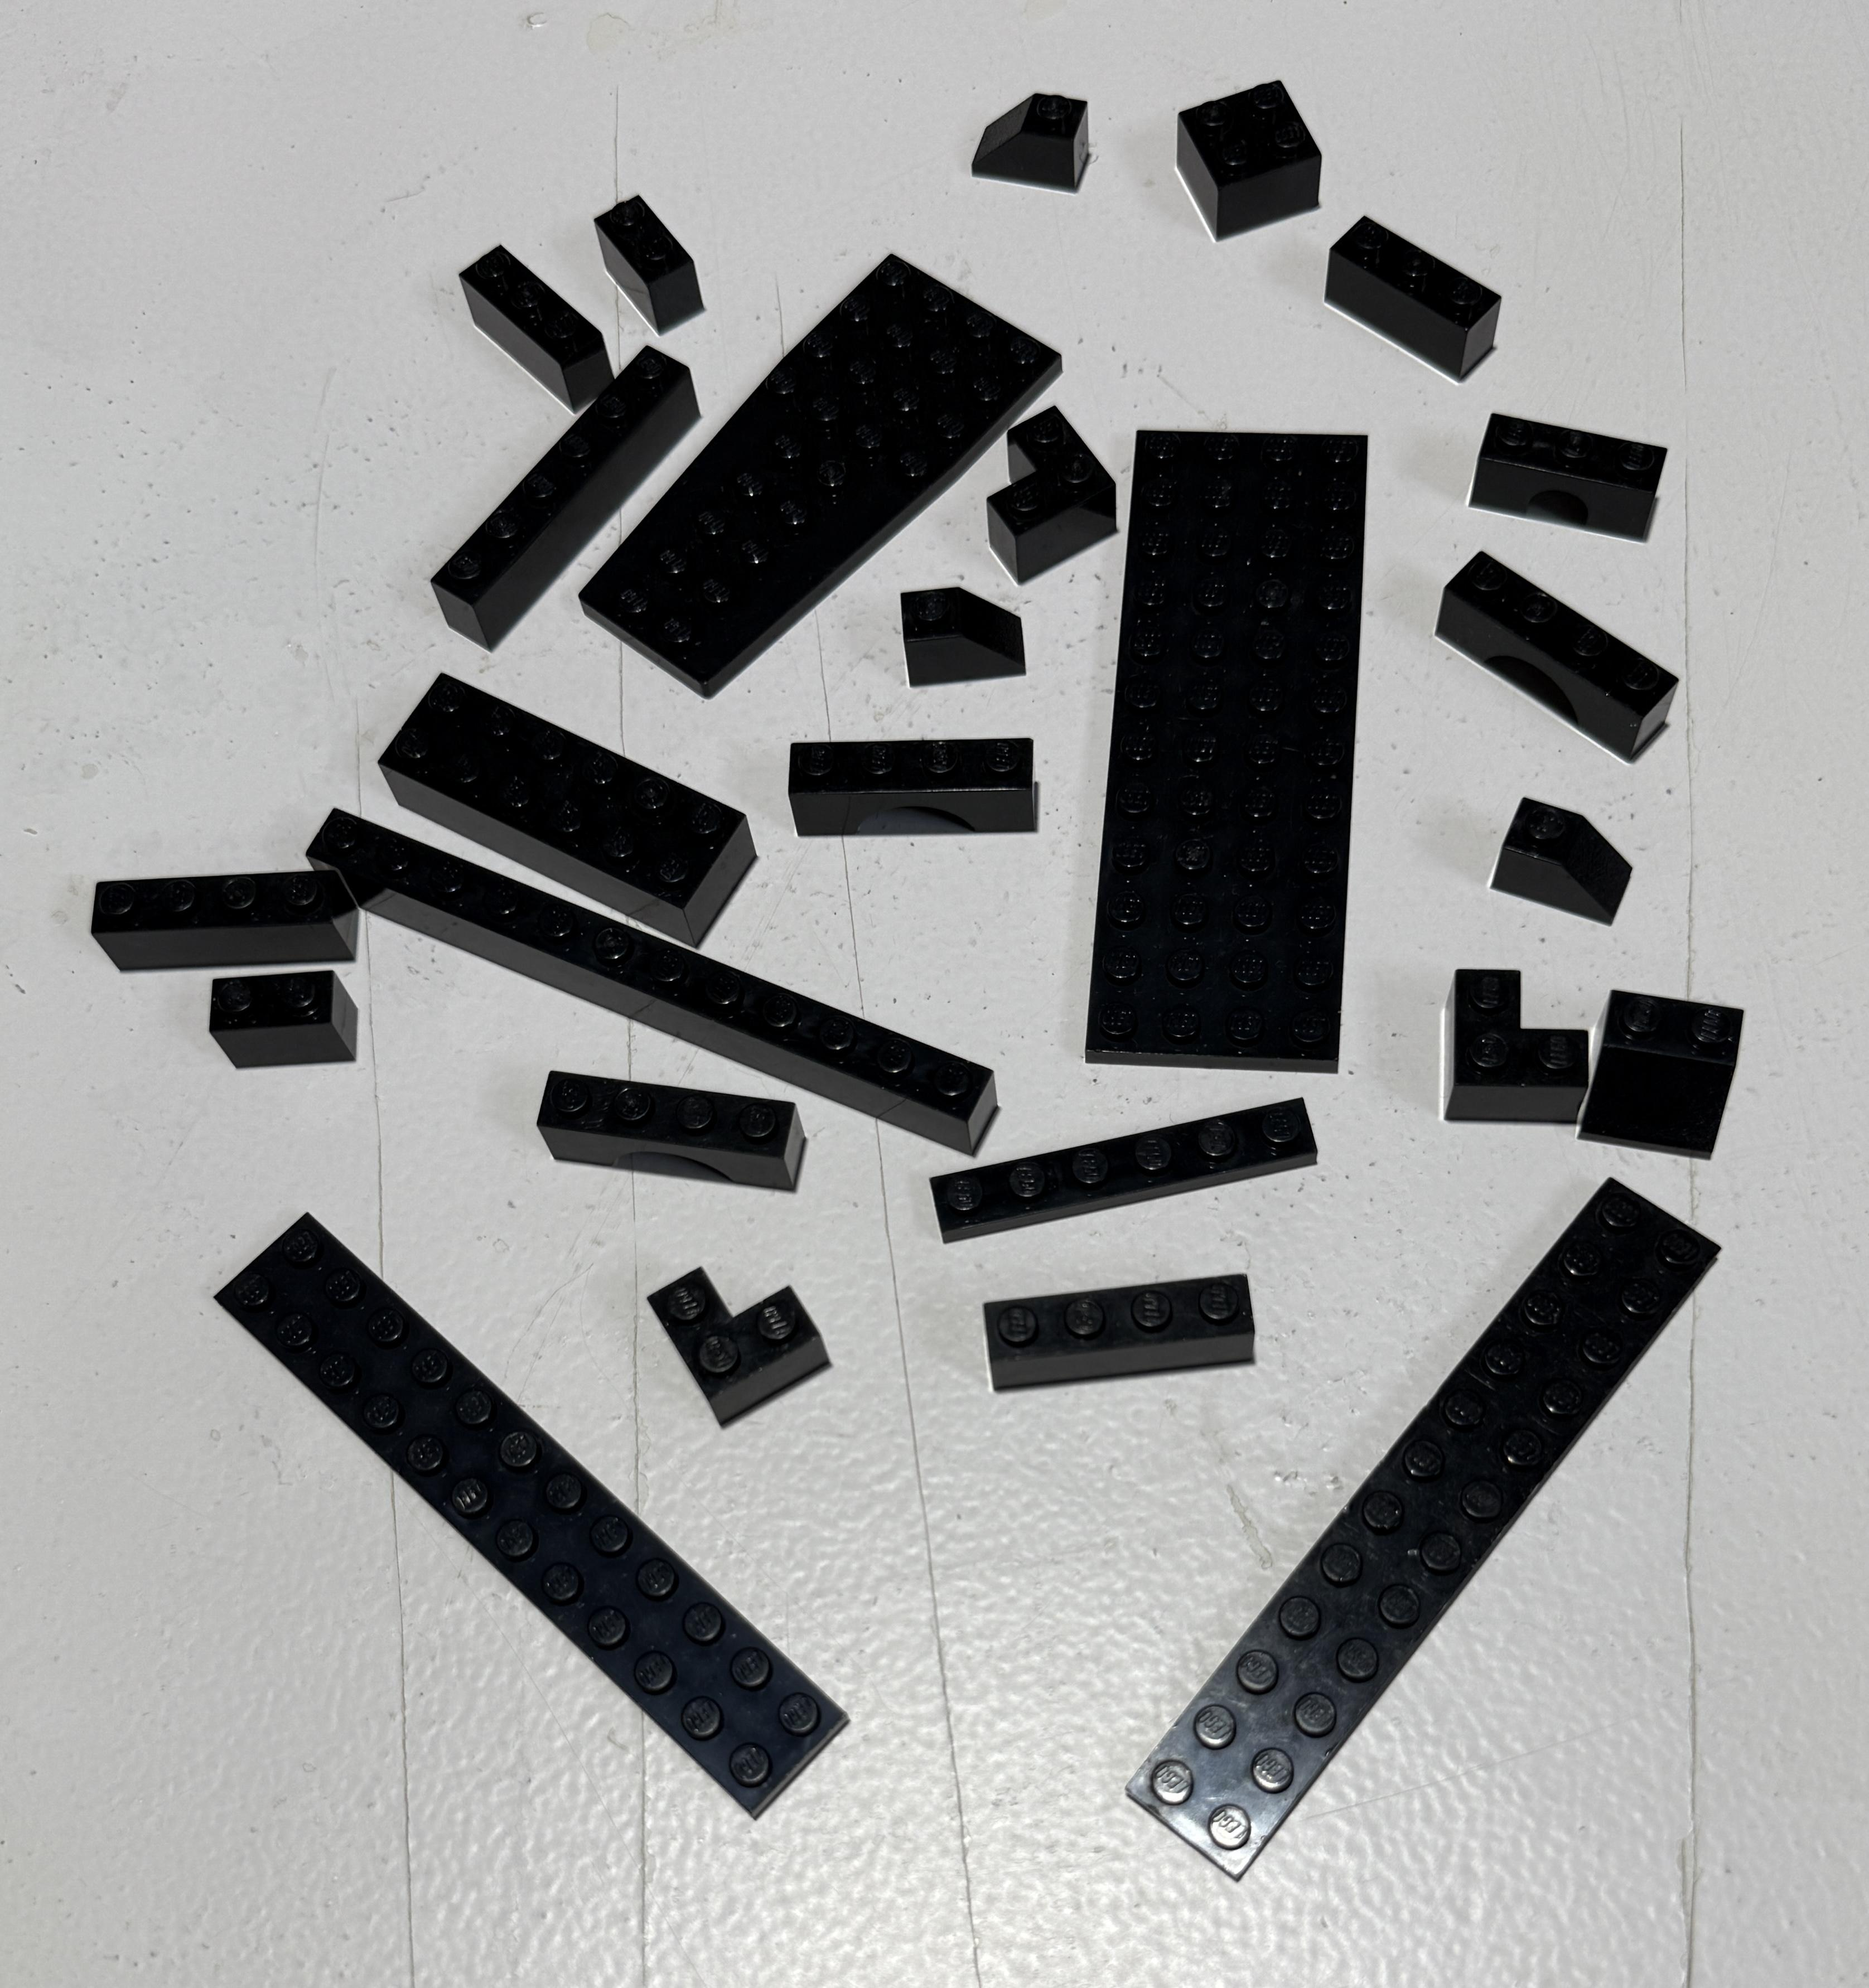brick_1x2: (158, 955, 392, 1096), (580, 165, 729, 349)
brick_1x3: (1296, 198, 1535, 392)
brick_2x2: (1159, 56, 1342, 267)
